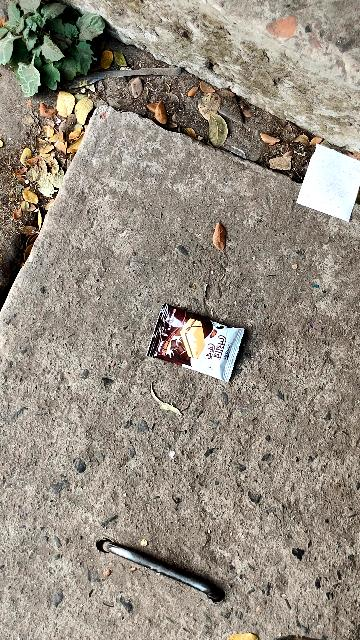packet: (148, 297, 246, 381)
